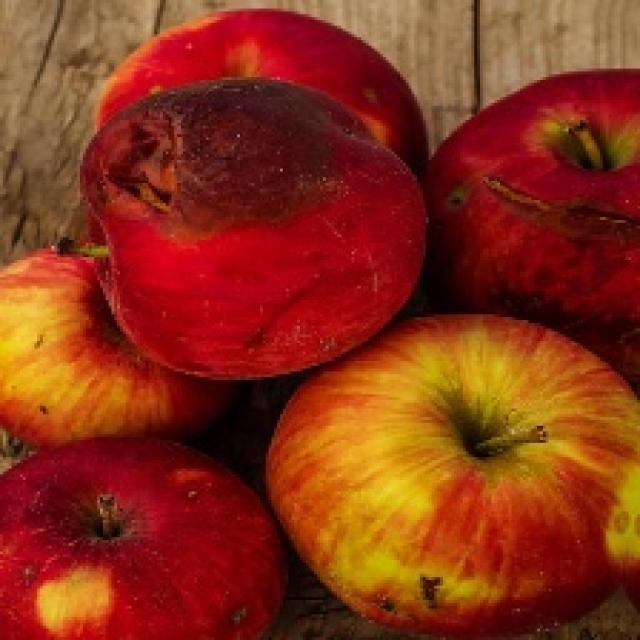rotten_apple: (77, 87, 426, 369)
